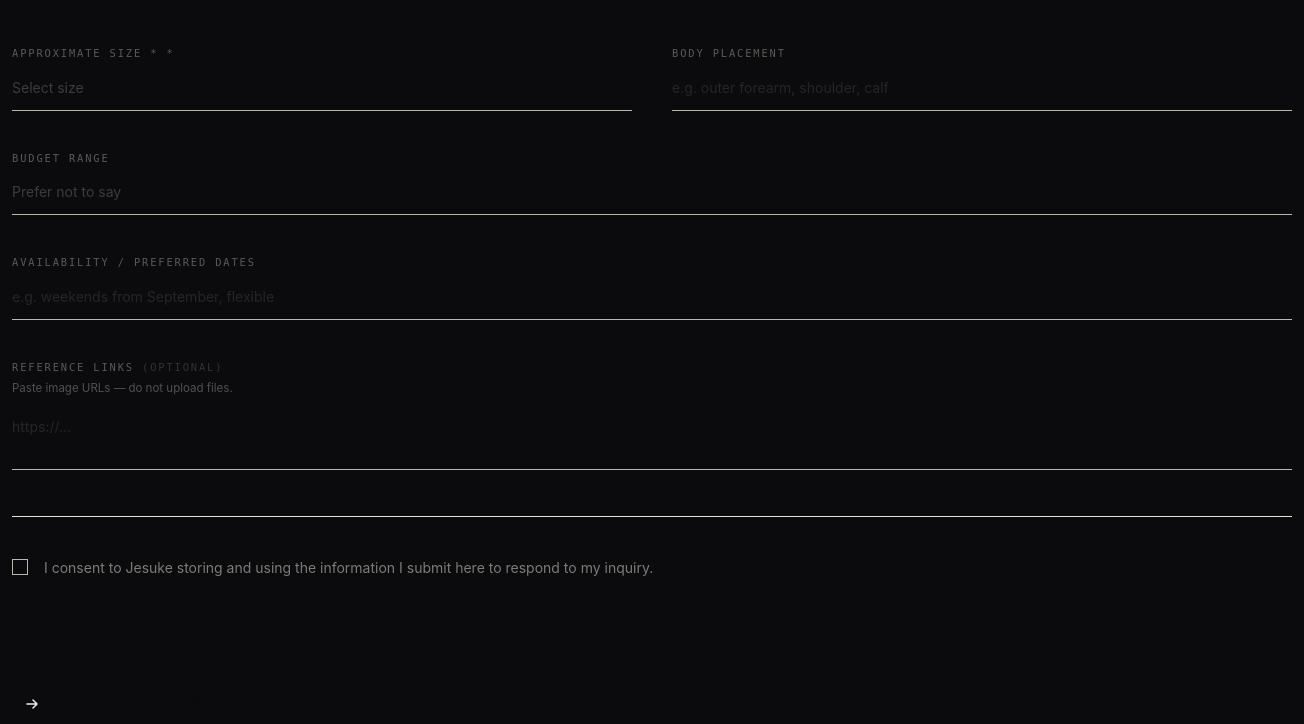
Test: CommissionForm › shows idea validation error on empty submit
The image size is (1304, 724).
(page scrolled)
Step 1. Click the button "Send commission inquiry" → coordinates (143, 704), box [12,684,274,723]
(page scrolled)
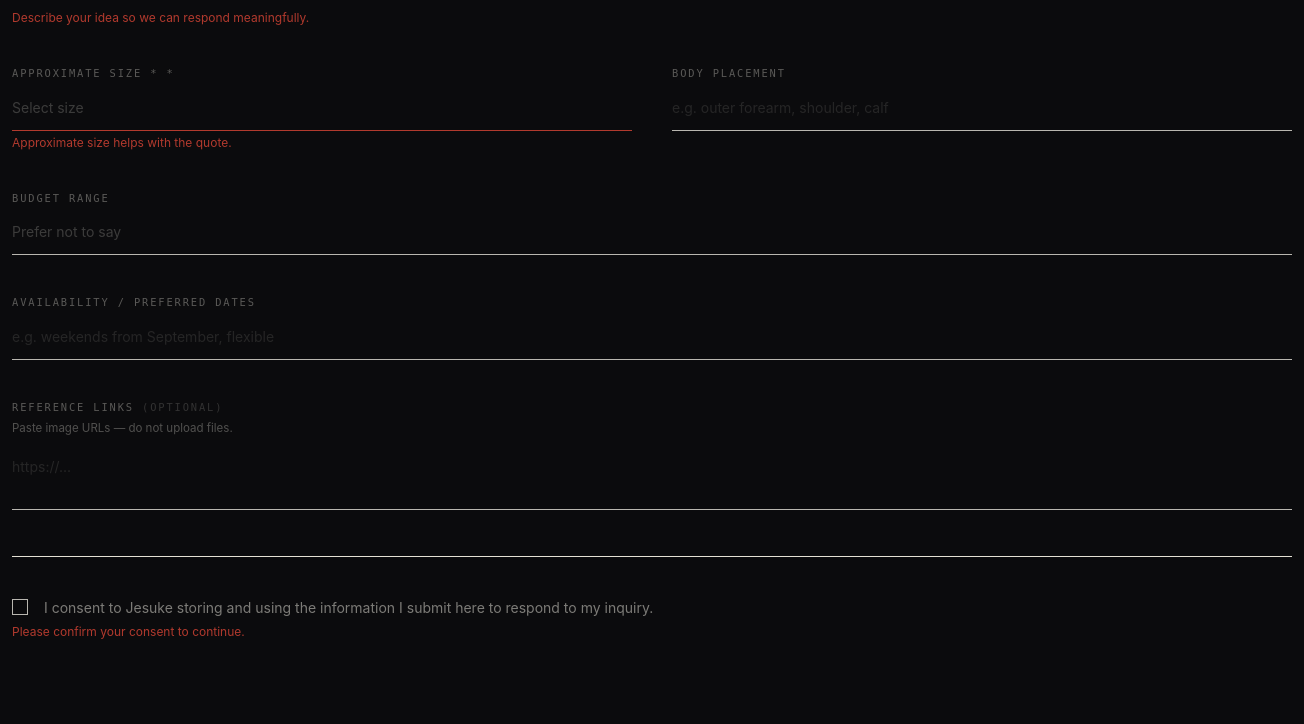
Check: the text "Describe your idea so we can respond meaningfully." is shown, box [12,10,309,25]
